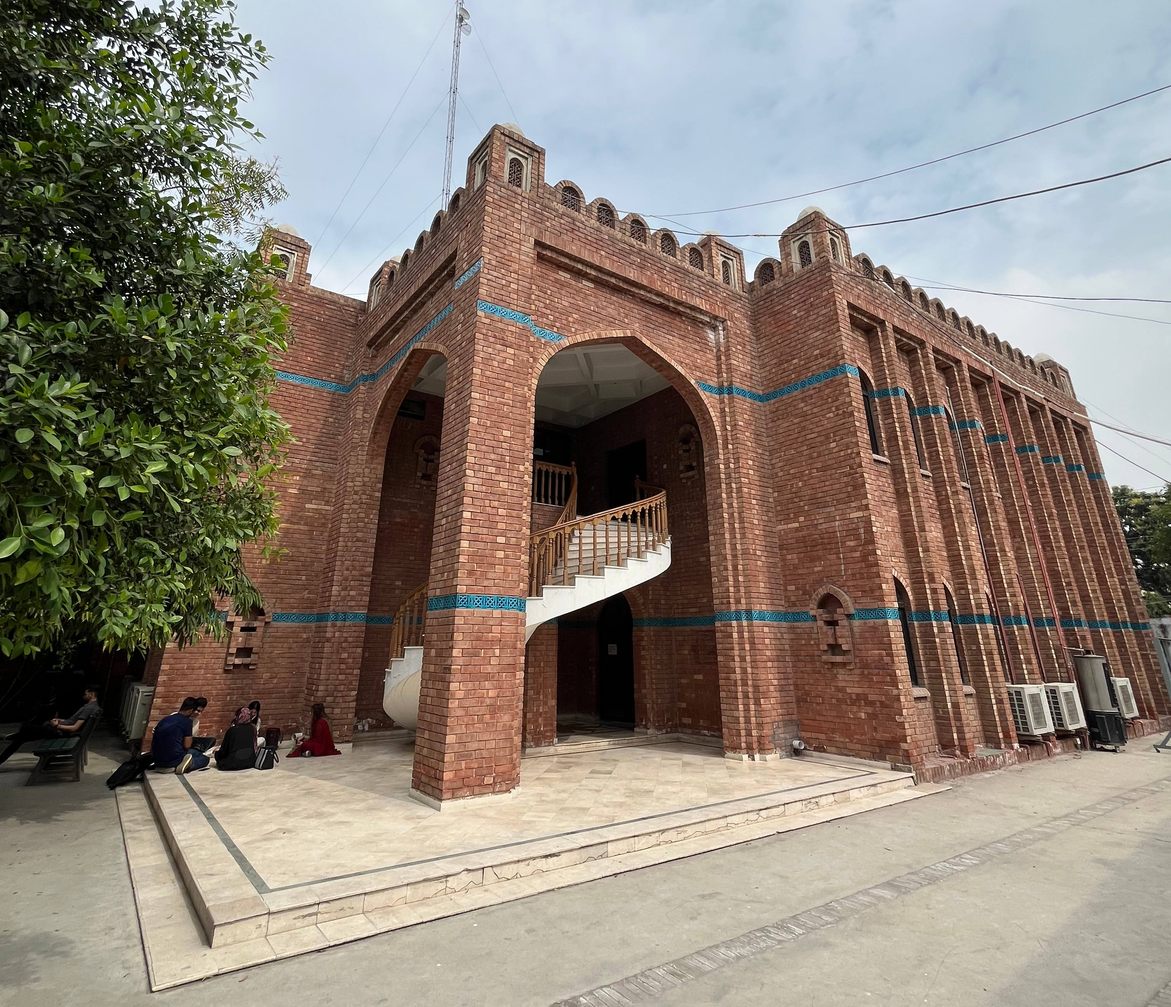Block E: (102, 117, 1171, 825)
